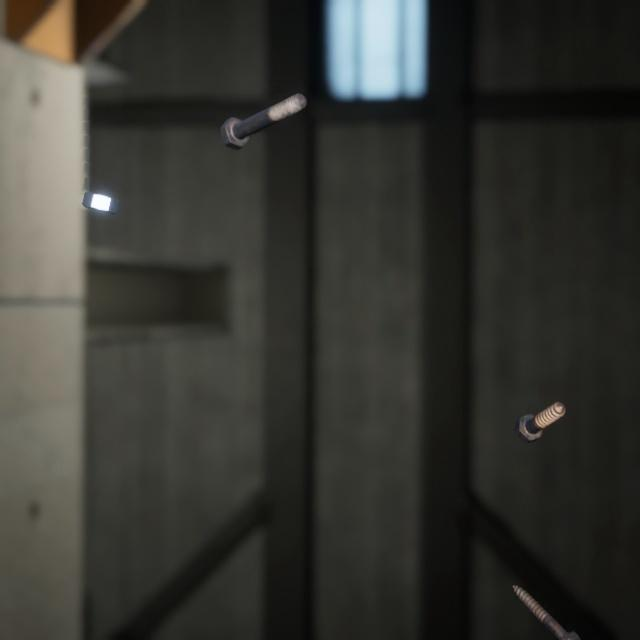bolt: (215, 75, 311, 141), (508, 557, 586, 636), (510, 377, 569, 428)
nut: (77, 172, 123, 203)
